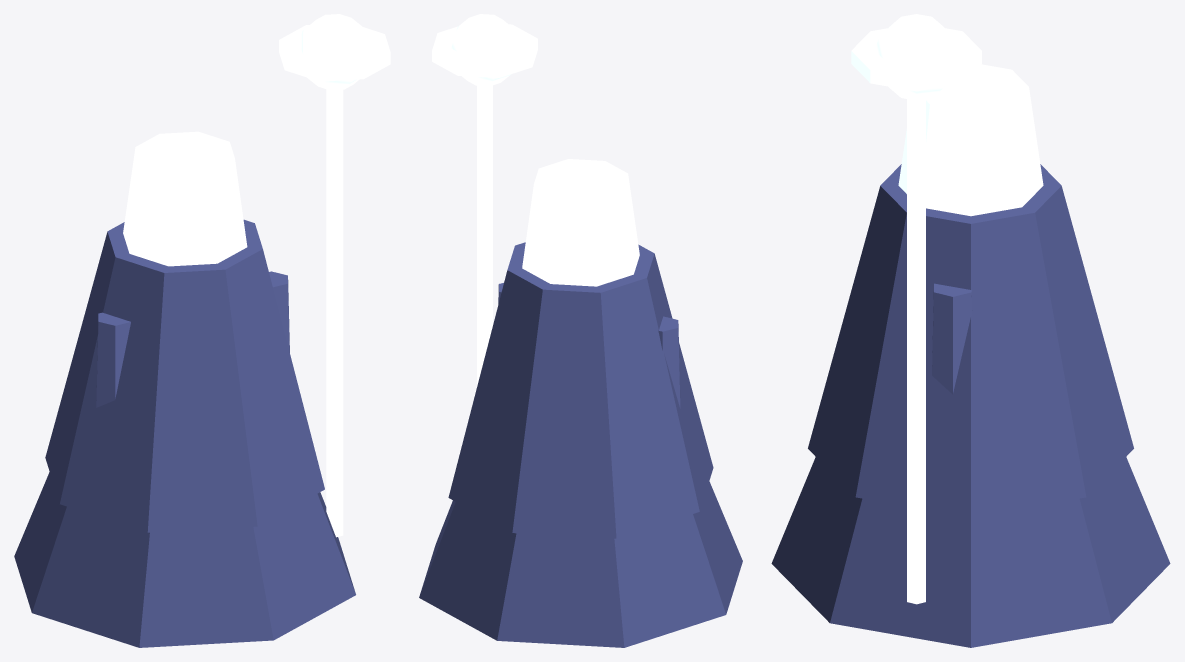
Rendered from hero_vesper.glb.
3 views of the same model, side by side, from view 1: azimuth 30°, elevation 25°; view 2: azimuth 150°, elevation 25°; view 3: azimuth 270°, elevation 25° (orthographic). The views are drawn at different scales.
Visible parts, largest first — view 1: Torso, RobeSkirt, Head, Weapon, LeftArm, RightArm; view 2: Torso, RobeSkirt, Head, Weapon, LeftArm; view 3: Torso, RobeSkirt, Weapon, Head, RightArm.
Boxes of the visible parts, <box> form: Torso: <box>45,219,324,532</box>; RobeSkirt: <box>14,472,355,647</box>; Head: <box>123,131,247,266</box>; Weapon: <box>279,14,390,537</box>; LeftArm: <box>96,312,130,407</box>; RightArm: <box>269,271,289,352</box>; Torso: <box>448,242,713,538</box>; RobeSkirt: <box>419,481,742,647</box>; Head: <box>522,159,639,286</box>; Weapon: <box>432,14,537,386</box>; LeftArm: <box>658,316,680,408</box>; Torso: <box>808,164,1133,517</box>; RobeSkirt: <box>771,457,1170,647</box>; Weapon: <box>851,14,981,604</box>; Head: <box>898,64,1043,216</box>; RightArm: <box>932,283,972,394</box>.
Bounding box in the file's own units: 1.18 × 1.87 × 1.1.
